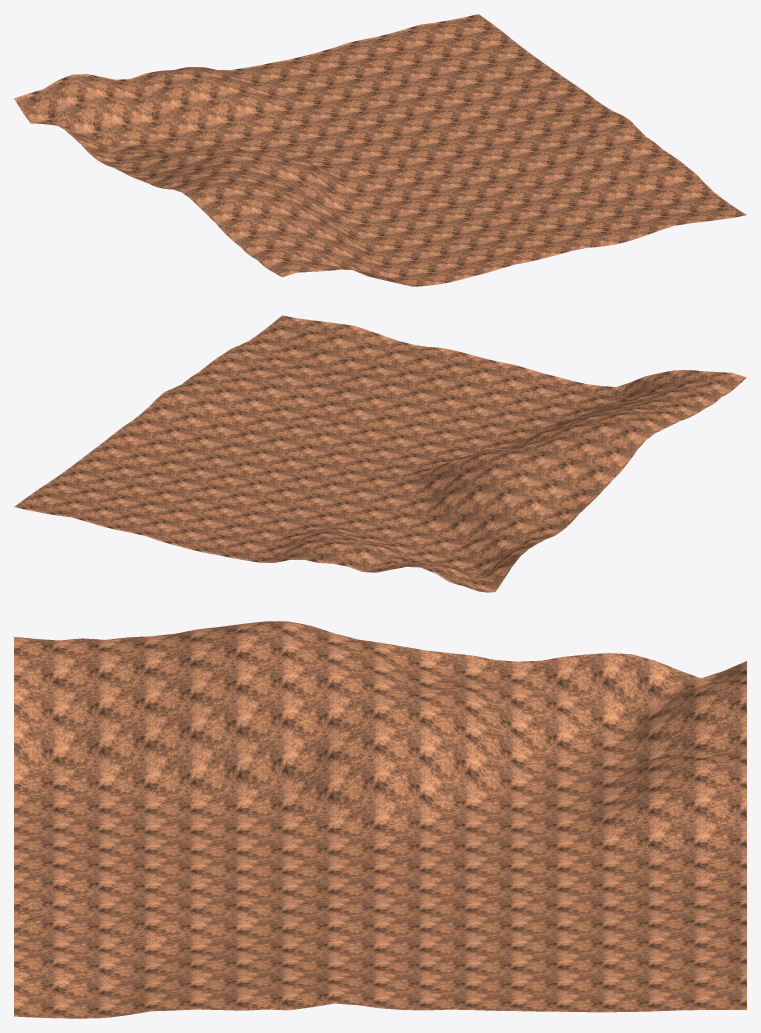
File: terrain_03_06.dae
3 renders of one model, top to bottom at view 1: azimuth 30°, elevation 25°; view 2: azimuth 150°, elevation 25°; view 3: azimuth 270°, elevation 25°, orthographic. The views are drawn at different scales.
Parts seen in each view (by area): view 1: terrain_03_06-node; view 2: terrain_03_06-node; view 3: terrain_03_06-node.
Part boxes in pixels (box(x1,y1,x2,y2)): terrain_03_06-node: box(14, 14, 746, 286); terrain_03_06-node: box(14, 315, 746, 592); terrain_03_06-node: box(14, 621, 746, 1018).
Bounding box in the file's own units: 128 × 128 × 18.39.
Materials: 1 (1 with a texture image).
